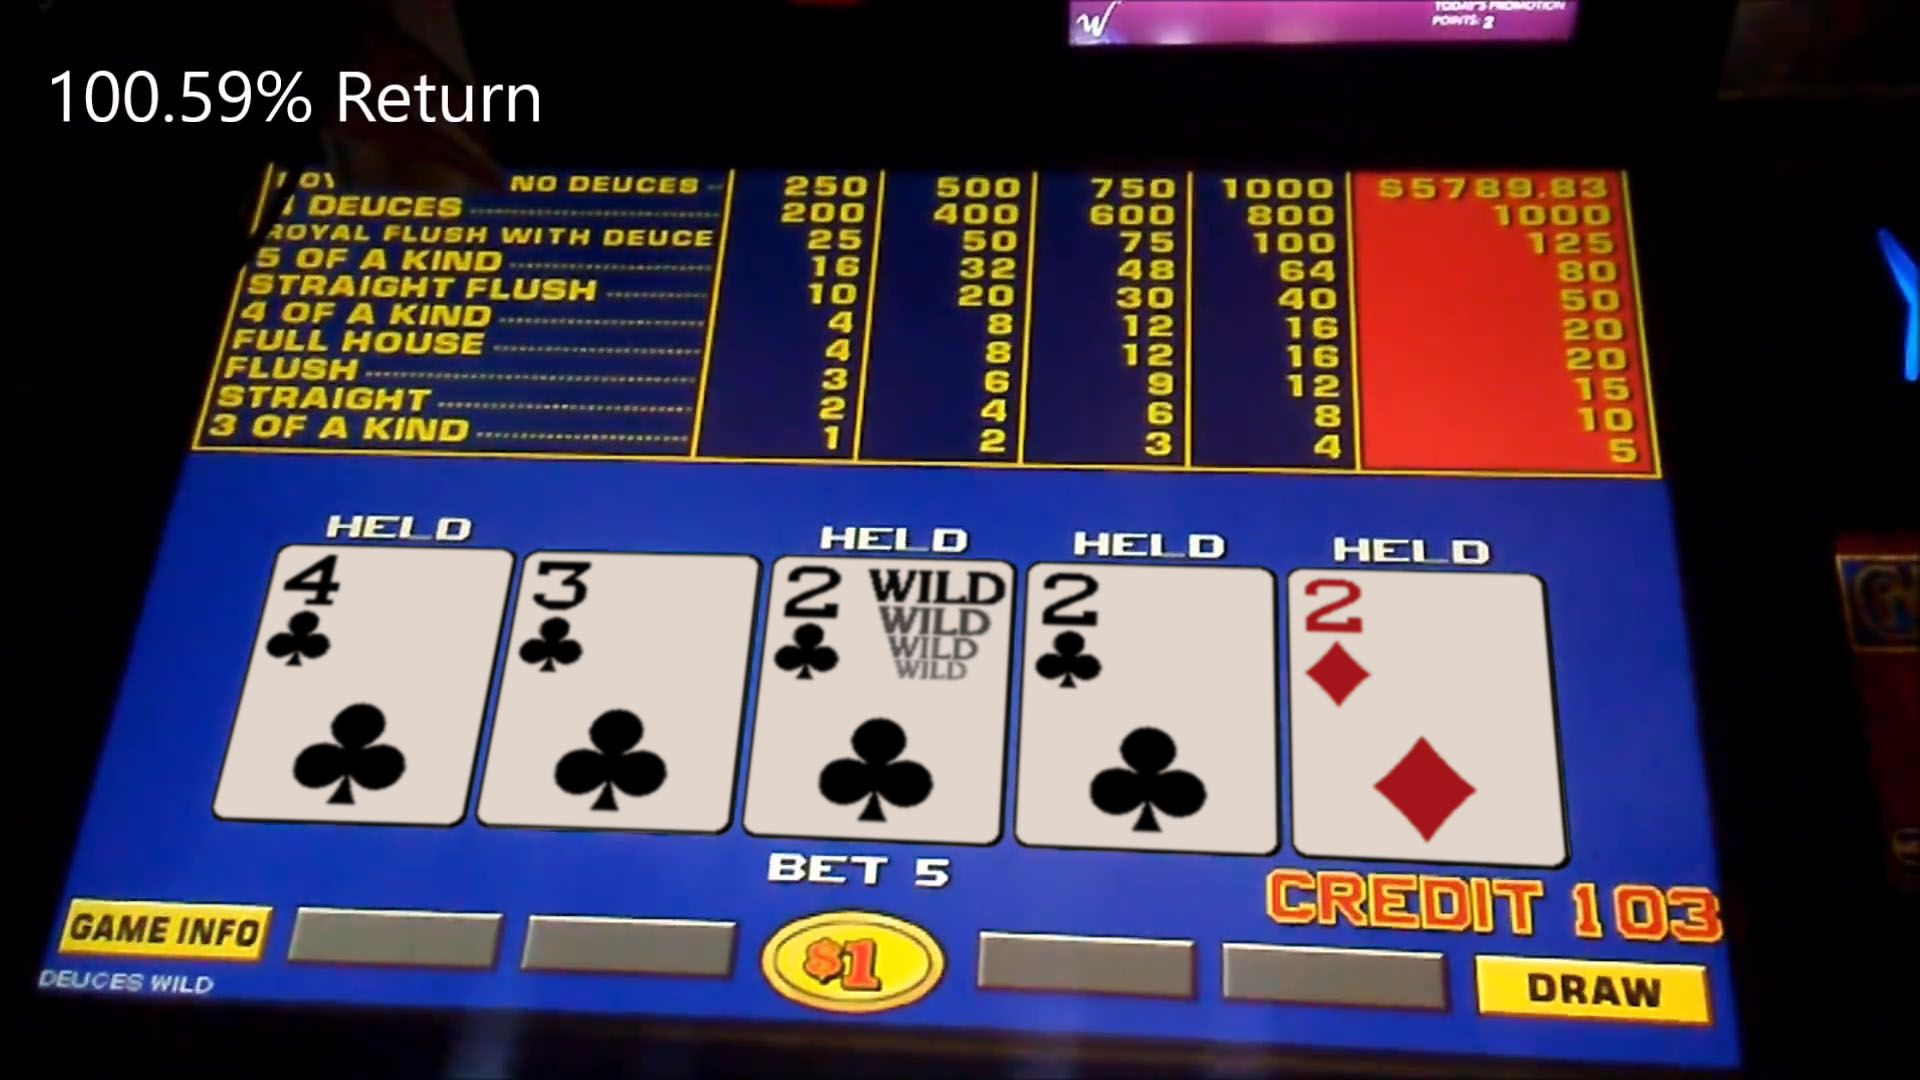C2: (1029, 564, 1270, 853)
C2W: (771, 558, 997, 843)
C3: (522, 553, 735, 828)
C4: (265, 549, 472, 819)
D2: (1294, 575, 1553, 855)
